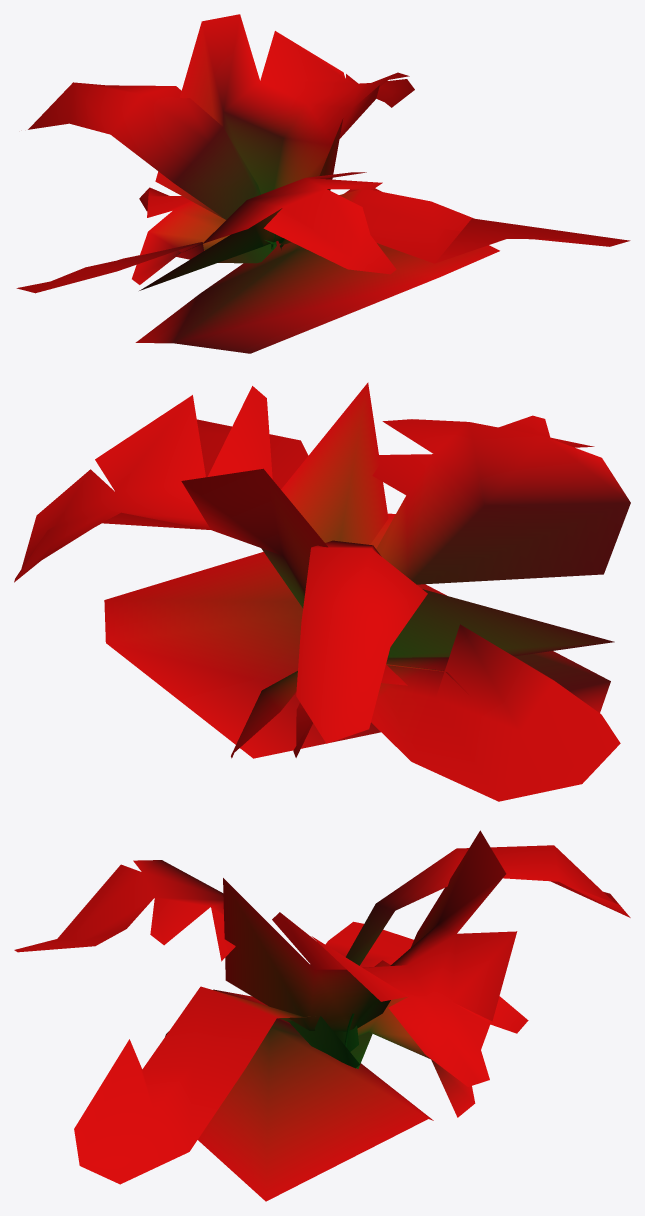
Rendered from Bracken Fern_LOD0_Var4_seEoW.fbx.
3 views of the same model, one above another, from view 1: azimuth 30°, elevation 25°; view 2: azimuth 150°, elevation 25°; view 3: azimuth 270°, elevation 25° (orthographic). The views are drawn at different scales.
Parts seen in each view (by area): view 1: _5ug1_Var4_LOD0; view 2: _5ug1_Var4_LOD0; view 3: _5ug1_Var4_LOD0.
Boxes of the visible parts, left/top/right/bottom form: _5ug1_Var4_LOD0: left=16, top=14, right=630, bottom=353; _5ug1_Var4_LOD0: left=14, top=382, right=630, bottom=801; _5ug1_Var4_LOD0: left=14, top=830, right=630, bottom=1201.
Bounding box in the file's own units: 131 × 61.83 × 126.
